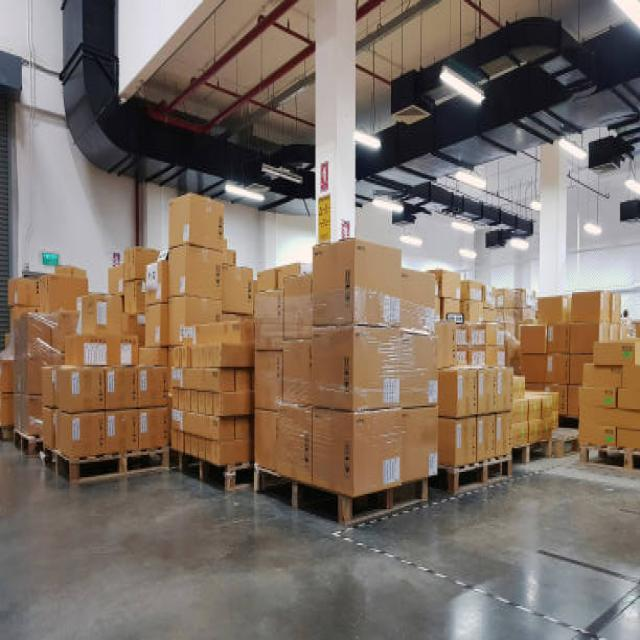Wooden-Pallets: (252, 461, 432, 526), (70, 448, 173, 492), (450, 449, 516, 500), (176, 444, 235, 497)
